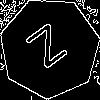Z: (24, 23, 76, 78)
